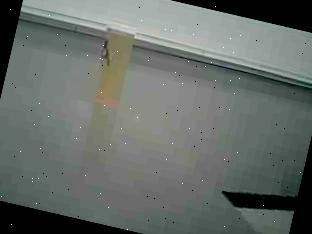Bottle A: (76, 9, 154, 128)
